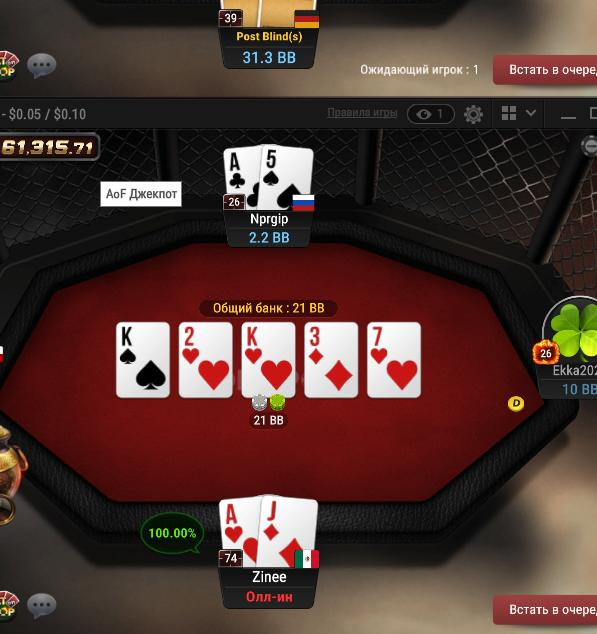2h: (180, 322, 232, 400)
3d: (305, 324, 357, 395)
5s: (261, 144, 313, 211)
7h: (366, 323, 419, 398)
Ac: (223, 147, 260, 211)
Ah: (217, 500, 259, 568)
Jd: (262, 496, 317, 567)
Kh: (242, 323, 294, 396)
Ks: (117, 321, 171, 398)
